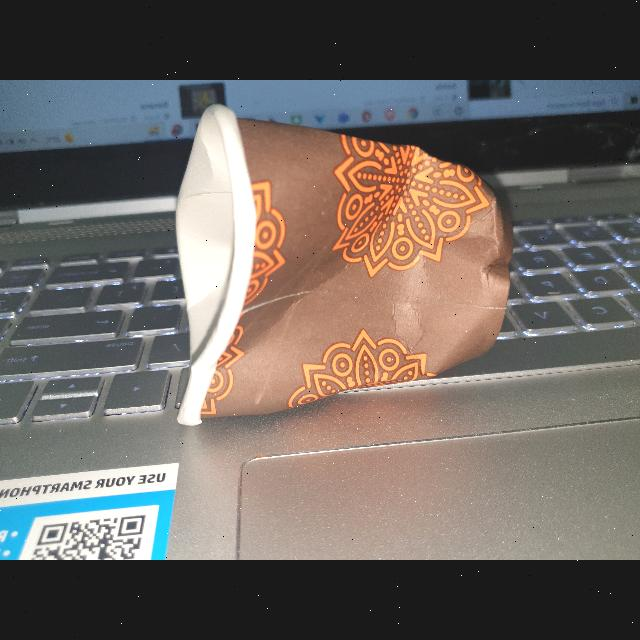trash: (156, 90, 520, 443)
